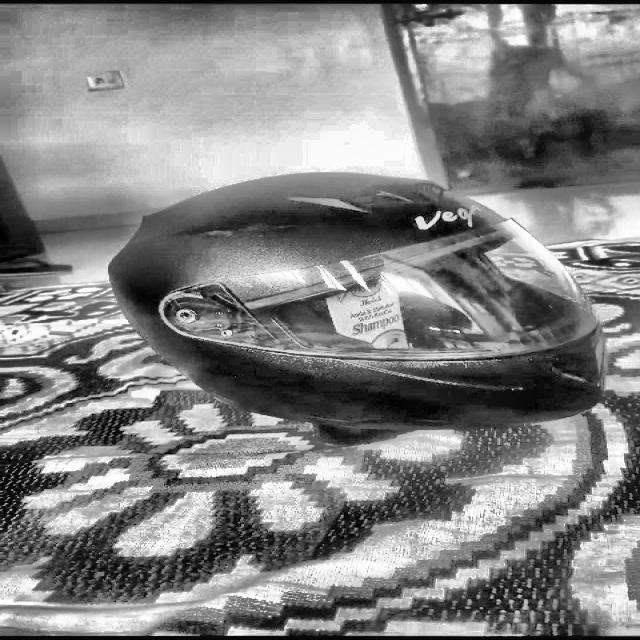Helmet: (120, 163, 640, 447)
